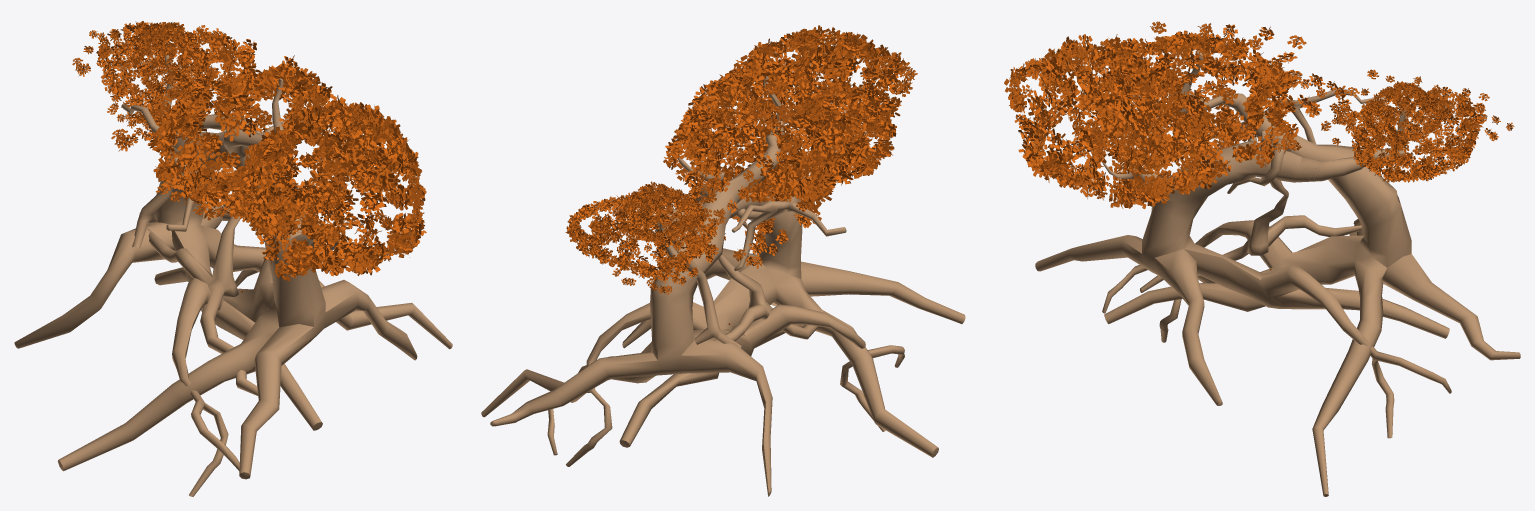
Rendered from Sacred_Tree_Mapping.fbx.
3 views of the same model, side by side, from view 1: azimuth 30°, elevation 25°; view 2: azimuth 150°, elevation 25°; view 3: azimuth 270°, elevation 25° (orthographic). The views are drawn at different scales.
Parts seen in each view (by area): view 1: All Leaf (Sacred tree), Main_Tree, Main_Tree.002, Branch-1; view 2: All Leaf (Sacred tree), Main_Tree, Main_Tree.002, Branch-1; view 3: All Leaf (Sacred tree), Main_Tree.002, Main_Tree, Branch-1.
Part boxes in pixels (x1=…): All Leaf (Sacred tree): x1=72, y1=21, x2=426, y2=292; Main_Tree: x1=57, y1=55, x2=417, y2=479; Main_Tree.002: x1=14, y1=78, x2=452, y2=496; Branch-1: x1=121, y1=104, x2=289, y2=395; All Leaf (Sacred tree): x1=565, y1=25, x2=917, y2=324; Main_Tree: x1=547, y1=176, x2=965, y2=466; Main_Tree.002: x1=481, y1=76, x2=904, y2=496; Branch-1: x1=678, y1=157, x2=846, y2=341; All Leaf (Sacred tree): x1=1004, y1=21, x2=1514, y2=270; Main_Tree.002: x1=1102, y1=50, x2=1520, y2=496; Main_Tree: x1=1035, y1=109, x2=1451, y2=438; Branch-1: x1=1140, y1=89, x2=1373, y2=292.
Size of the model in its own units: 8476 by 7454 by 9657.
2 materials, 1 textured.
